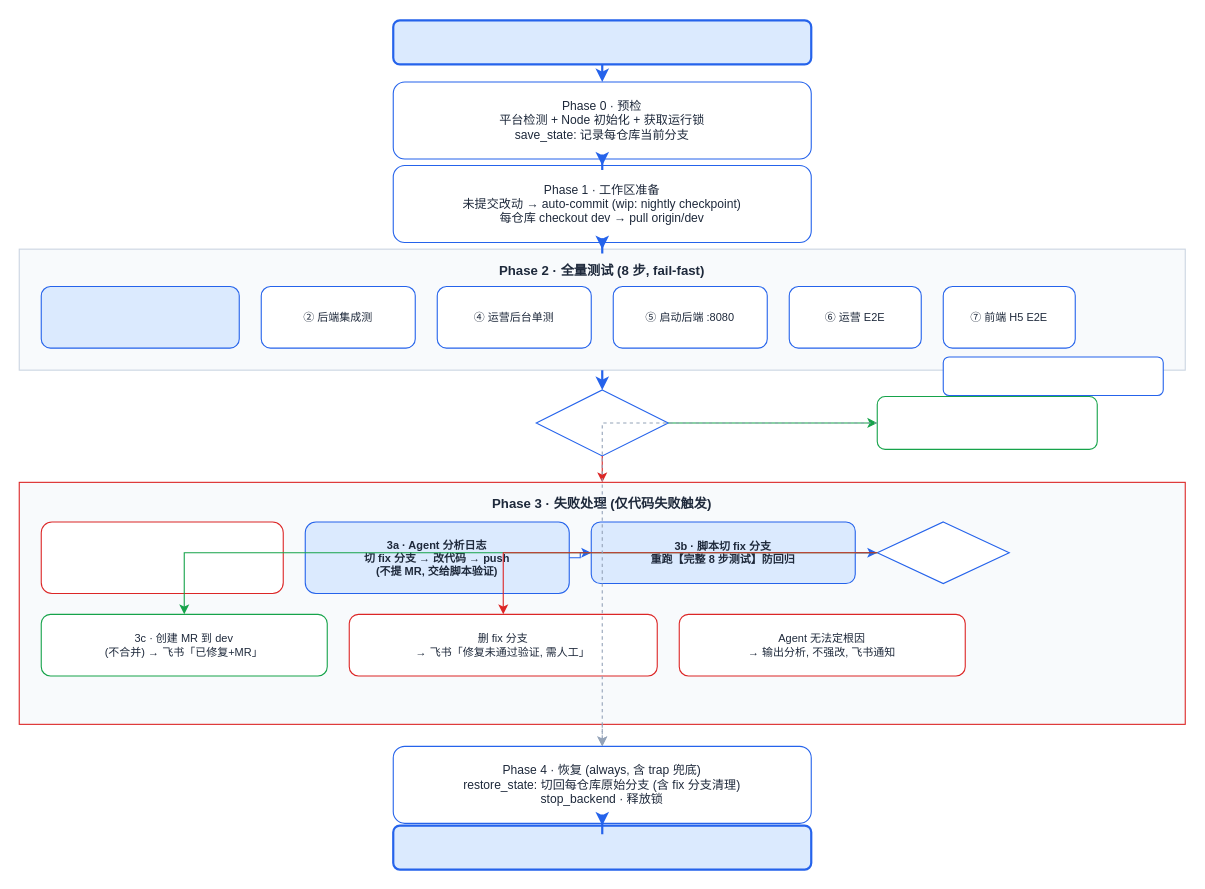
Some shapes in this 1205 by 889 pixel diagram are drawn without their labels. The centre of each missing label's shape, as x and y in pixels:
"①③ 后端单测 + 前端单测 (并行)" belongs at point 139,316.
"⑧ 小程序编译验证" belongs at point 1052,375.
"全过 → 飞书 [PASS] 直接进 Phase 4 恢复" belongs at point 986,422.
"回归通过?" belongs at point 942,552.
"完成 · 开发者工作区无损还原" belongs at point 602,847.
"定时触发 (默认每天 00:00, 可 --time)" belongs at point 602,42.
"测试结果?" belongs at point 601,422.
"环境失败 (后端启不来/DB 不可达) → 飞书告警, 跳过修复" belongs at point 161,557.
